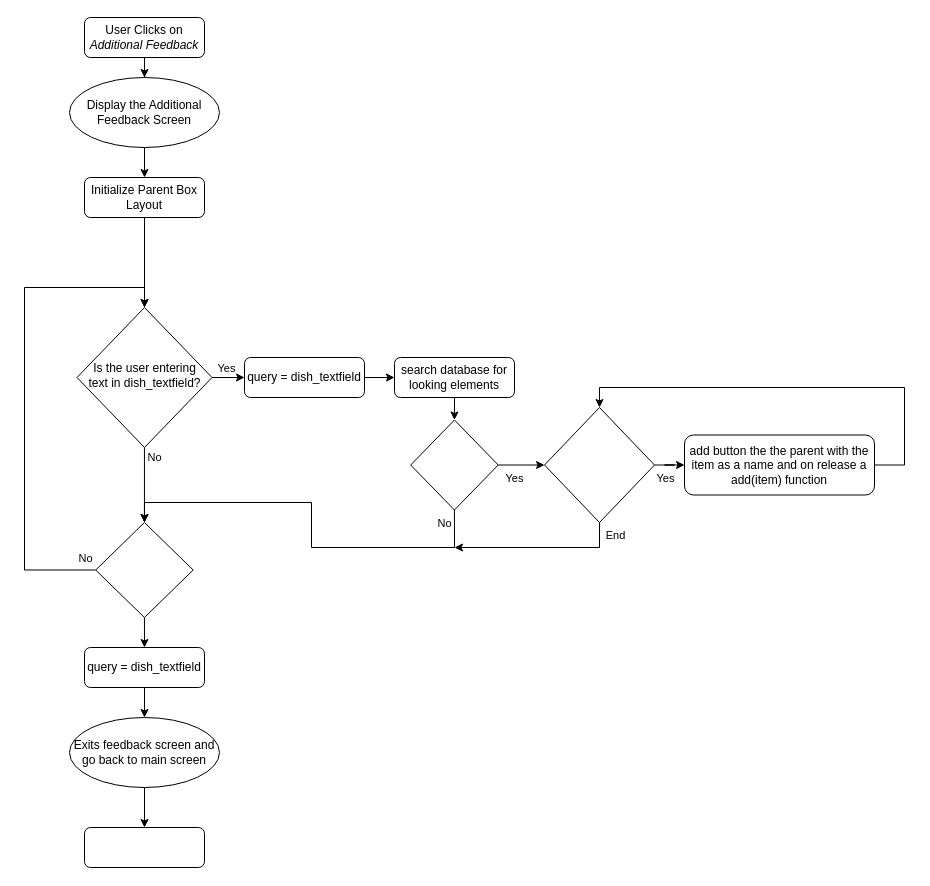
This 930x886 diagram has some shape labels left out. Here are the shapes that lost their labels. From the top down, the centre of each, then its label:
pixel 454 464: if results > 1
pixel 599 464: iterate for every item in the array
pixel 144 570: User Pressed Submit button
pixel 144 847: Takes data from text fields and adds them to the db
